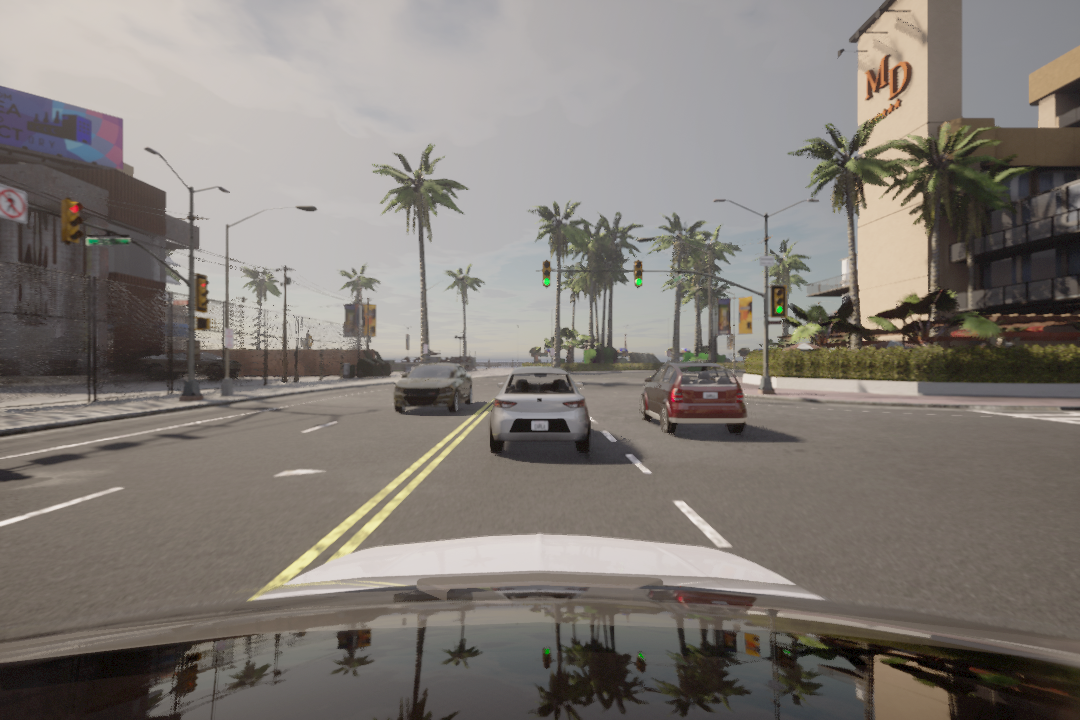TrafficLight: (57, 199, 83, 247), (194, 276, 211, 314), (773, 287, 787, 318), (631, 261, 645, 289), (543, 261, 554, 287)
TrafficSign: (1, 184, 30, 224)
